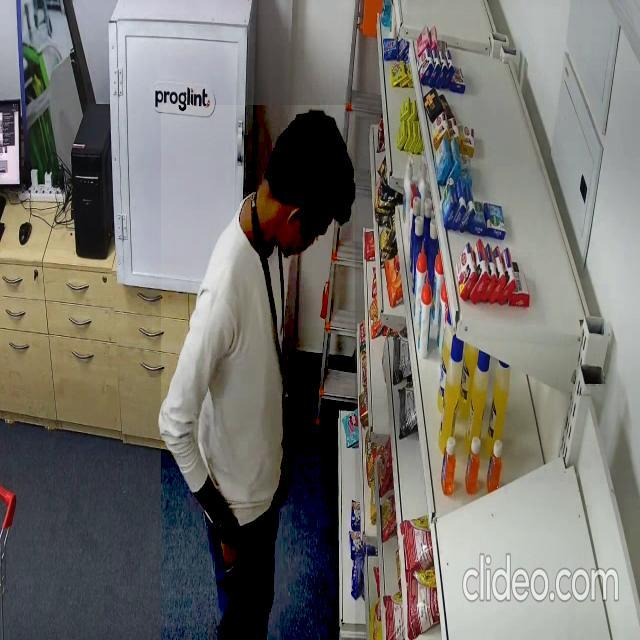Shoplifting: (161, 105, 355, 640)
